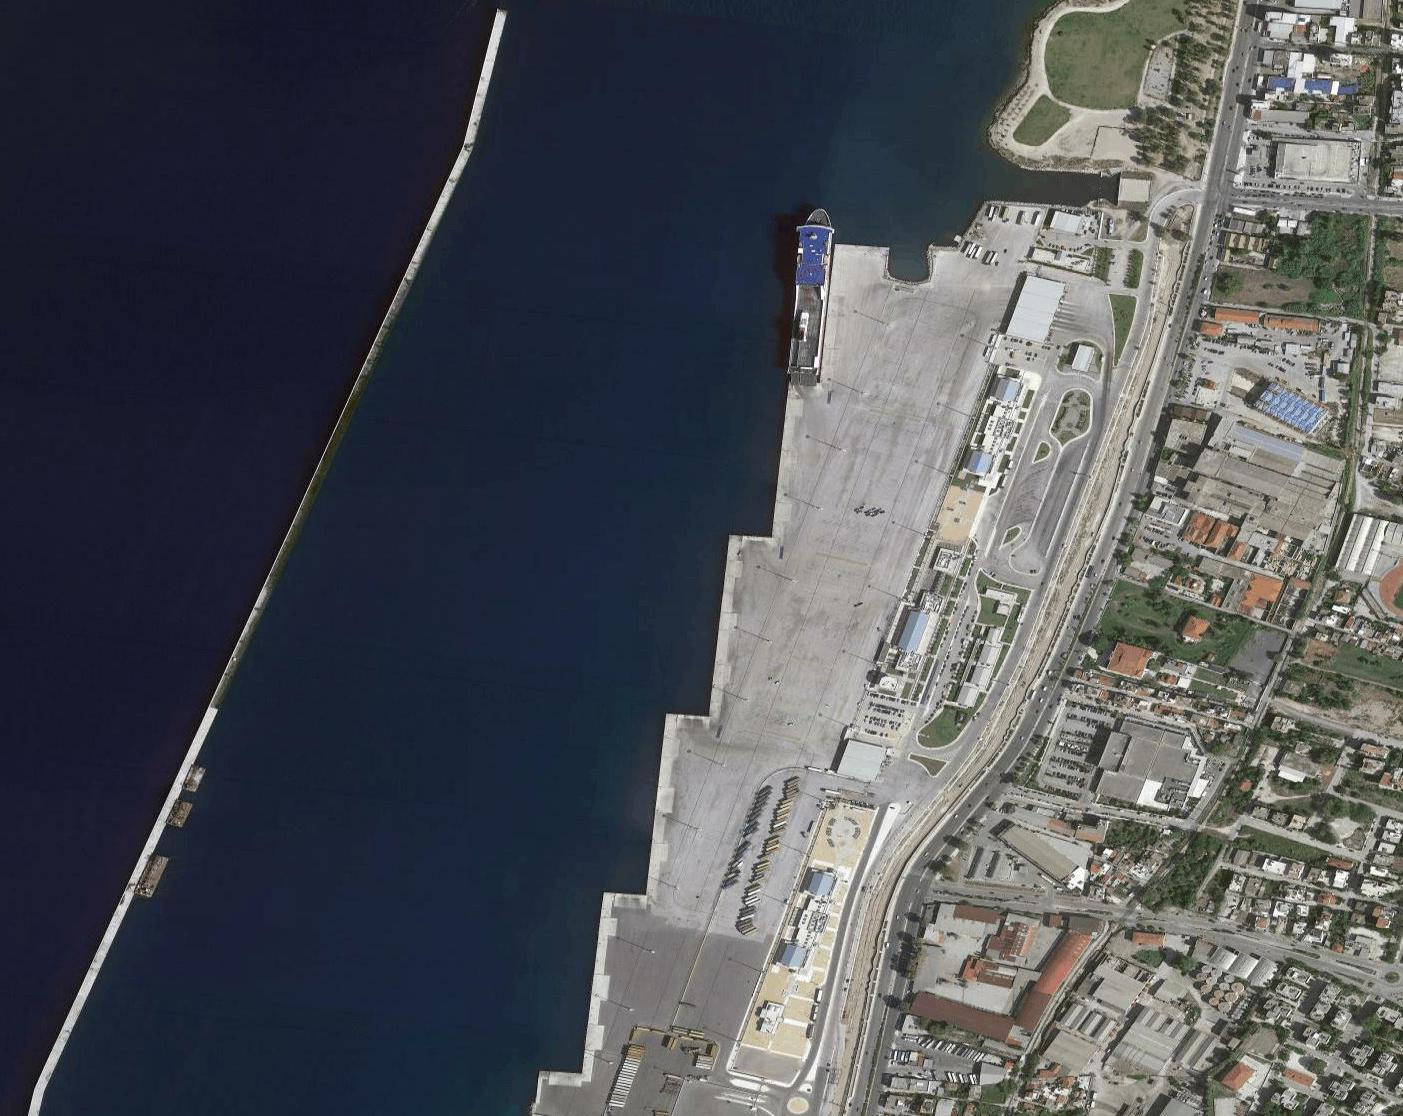harbor: (533, 112, 1078, 1116)
